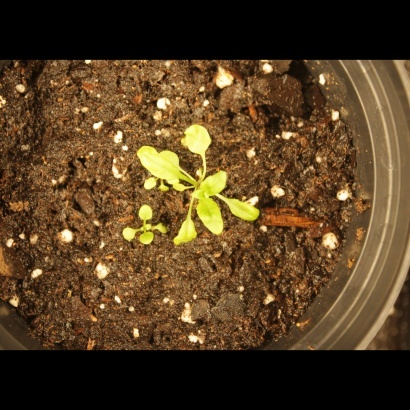leaf: (135, 145, 184, 183), (192, 196, 226, 238), (220, 193, 263, 222), (173, 214, 202, 253), (182, 122, 214, 156), (196, 167, 229, 199), (131, 200, 158, 225), (114, 224, 137, 247), (135, 233, 158, 256), (152, 220, 175, 243), (134, 176, 157, 199), (159, 146, 182, 169), (168, 181, 191, 204)
